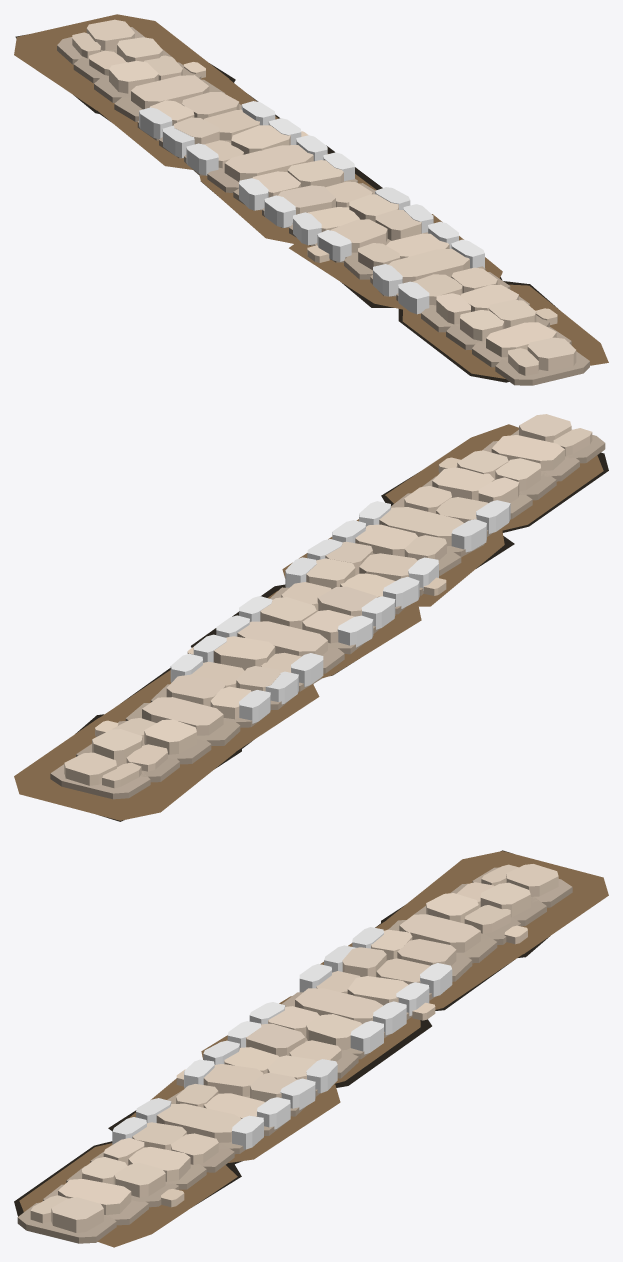
File: road.fbx
3 renders of one model, top to bottom at view 1: azimuth 30°, elevation 25°; view 2: azimuth 150°, elevation 25°; view 3: azimuth 330°, elevation 25°, orthographic. The views are drawn at different scales.
Visible parts, largest first — view 1: road.008; view 2: road.008; view 3: road.008.
Part boxes in pixels (bbox=[...]): road.008: bbox=[14, 14, 608, 385]; road.008: bbox=[14, 414, 608, 821]; road.008: bbox=[14, 850, 608, 1247].
Size of the model in its own units: 0.7195 by 0.0837 by 3.96.
